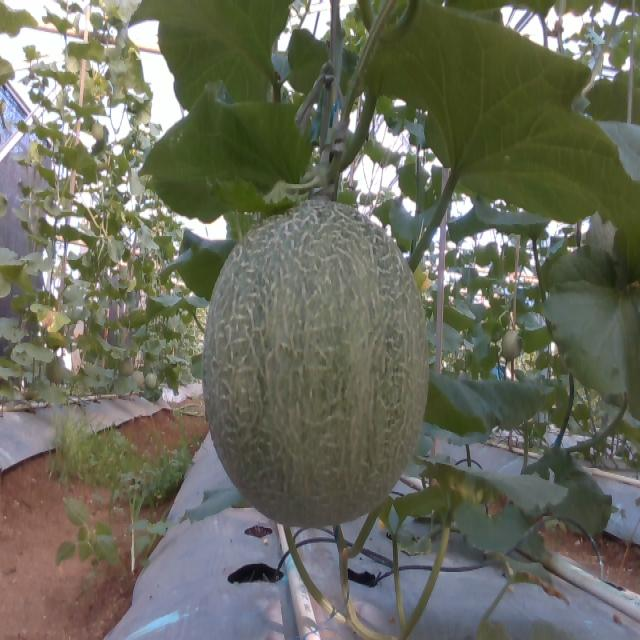melon: (204, 201, 429, 527)
